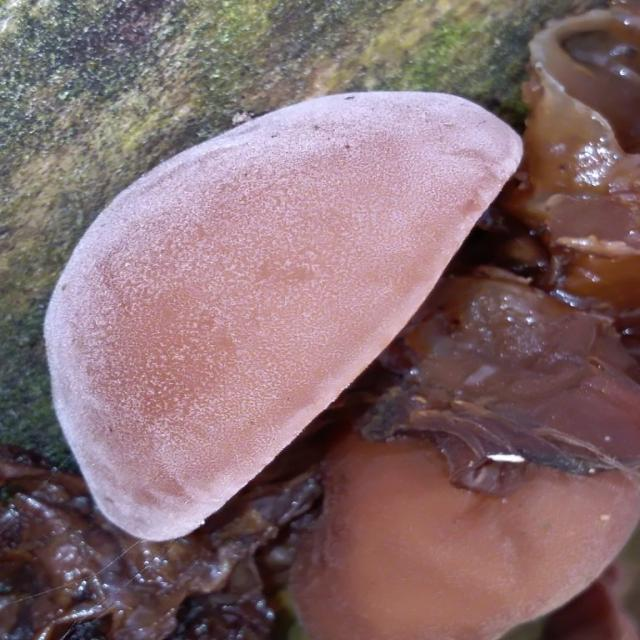Matang: (56, 83, 532, 532)
